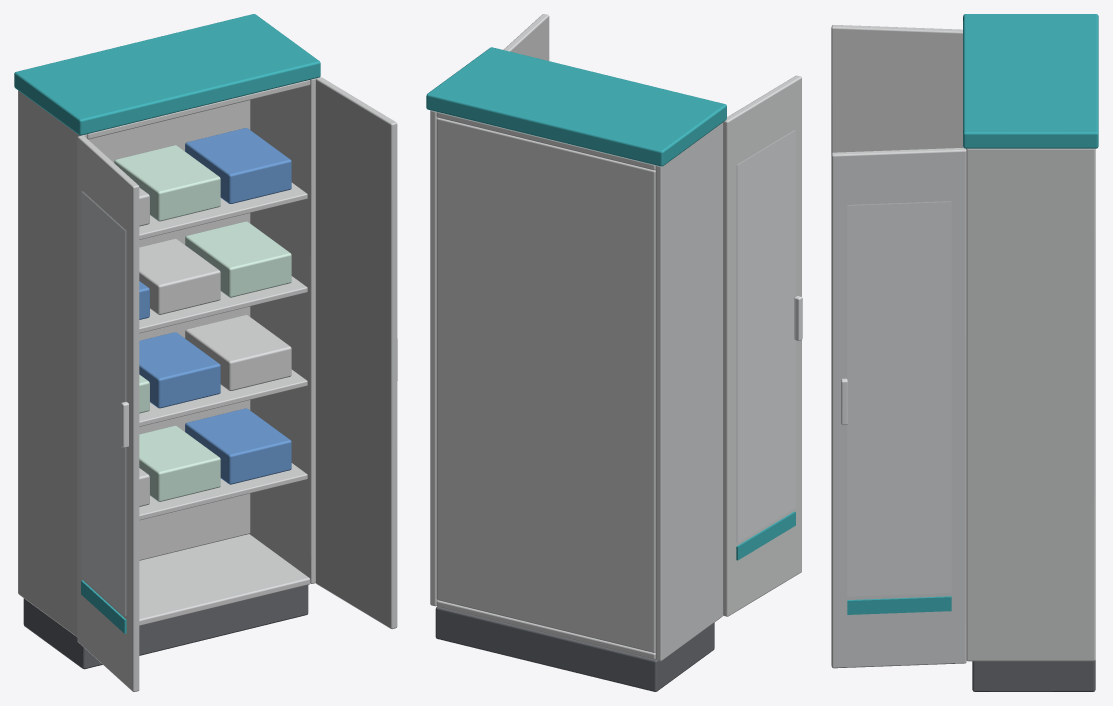
The model's file is Sterile Store Cabinet Open (Dental Practice and Surgery).glb.
3 renders of one model, left to right at view 1: azimuth 30°, elevation 25°; view 2: azimuth 150°, elevation 25°; view 3: azimuth 270°, elevation 25°, orthographic. The views are drawn at different scales.
Visible parts, largest first — view 1: sterile-store-cabinet-open, door-left (×3), door-right; view 2: sterile-store-cabinet-open, door-left (×3), door-right; view 3: door-right (×3), sterile-store-cabinet-open, door-left.
Boxes of the visible parts, x1,y1,x2,y2 form: sterile-store-cabinet-open: [14, 14, 320, 669]; door-left (×3): [77, 135, 139, 691]; door-right: [315, 77, 397, 629]; sterile-store-cabinet-open: [426, 47, 726, 691]; door-left (×3): [723, 75, 801, 616]; door-right: [503, 14, 549, 60]; door-right (×3): [831, 147, 966, 668]; sterile-store-cabinet-open: [963, 14, 1098, 691]; door-left: [831, 25, 963, 153].
Bounding box in the file's own units: 1.05 × 2.02 × 0.8678.
